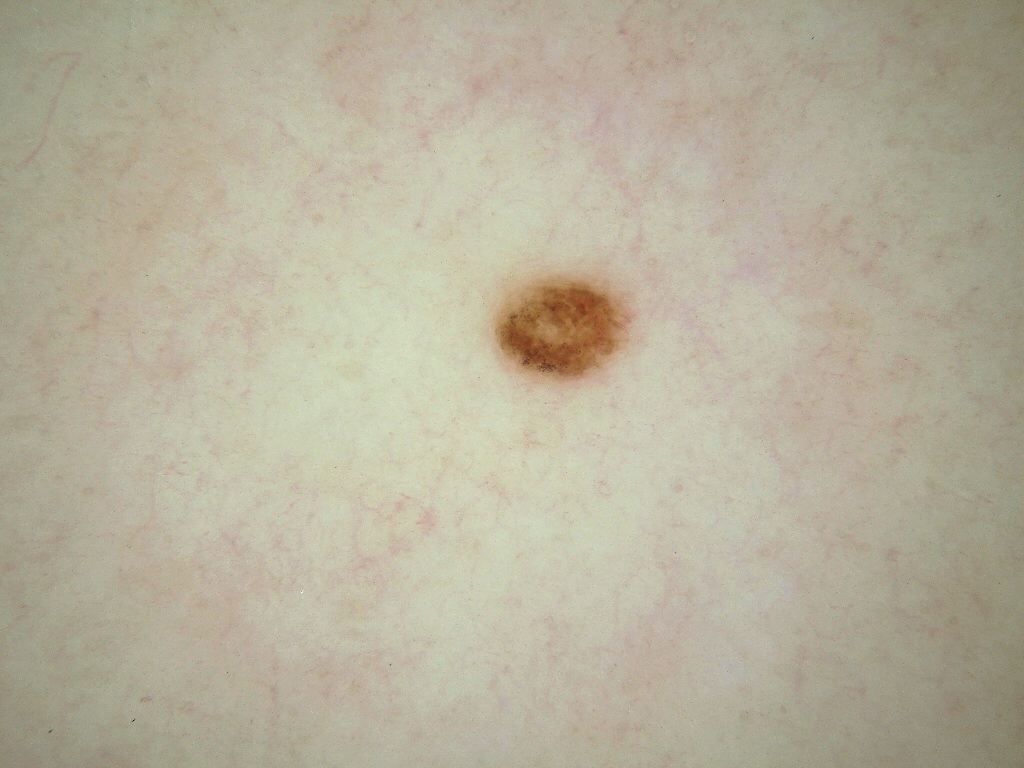Detected Lesion: (485, 272, 643, 391)
